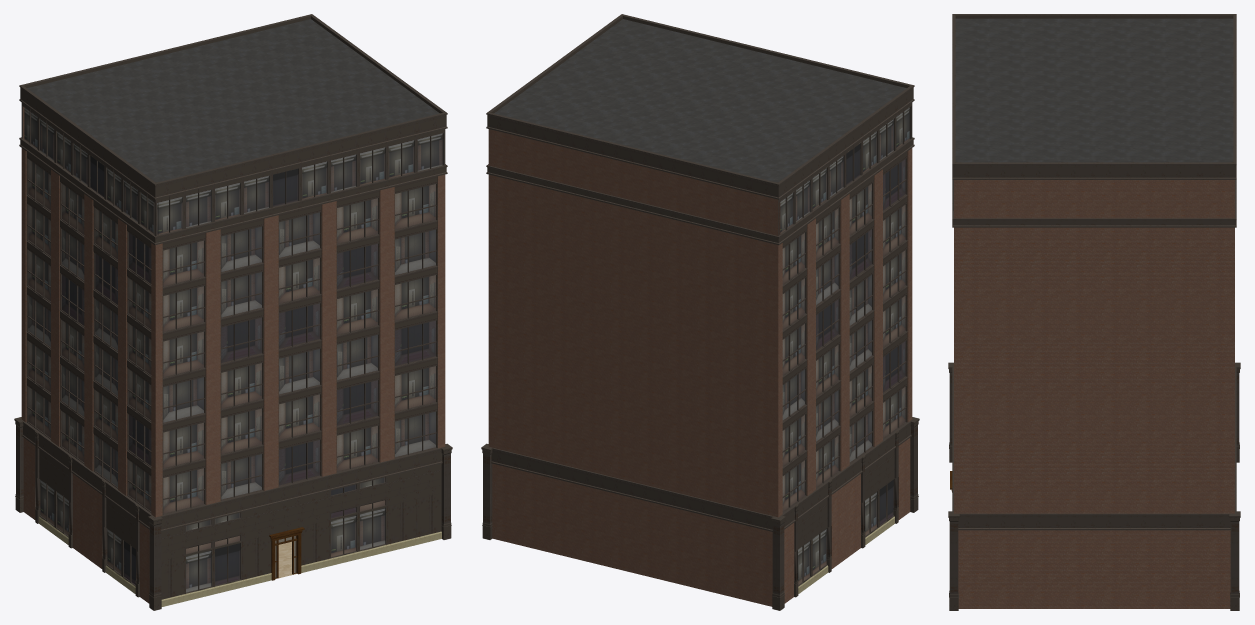
File: dt-large.glb
3 renders of one model, left to right at view 1: azimuth 30°, elevation 25°; view 2: azimuth 150°, elevation 25°; view 3: azimuth 270°, elevation 25°, orthographic. The views are drawn at different scales.
Parts seen in each view (by area): view 1: Building_Large_2; view 2: Building_Large_2; view 3: Building_Large_2.
Boxes of the visible parts, box(x1,y1,x2,y2) form: Building_Large_2: box(14, 14, 452, 610); Building_Large_2: box(481, 14, 919, 610); Building_Large_2: box(948, 14, 1240, 610).
Size of the model in its own units: 20.64 by 28 by 16.64.
Materials: 9 (8 with a texture image).
